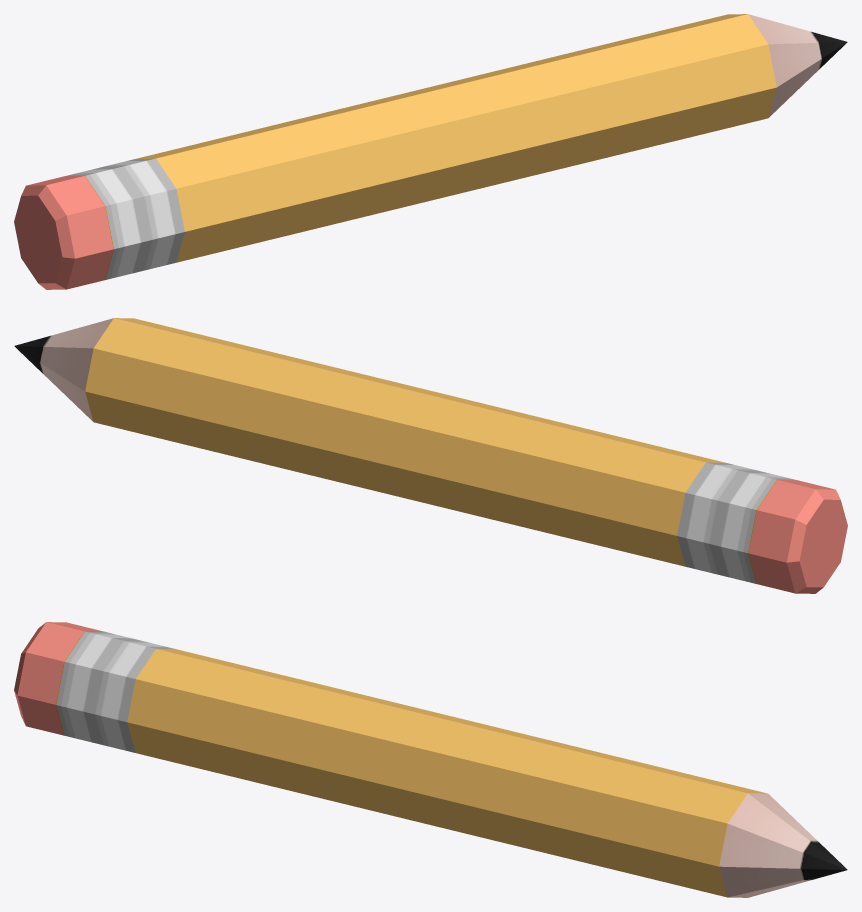
Rendered from pencil.glb.
The picture shows the model from 3 angles, top to bottom: view 1: azimuth 30°, elevation 25°; view 2: azimuth 150°, elevation 25°; view 3: azimuth 330°, elevation 25°; orthographic projection.
Parts seen in each view (by area): view 1: Cone; view 2: Cone; view 3: Cone.
Boxes of the visible parts, x1,y1,x2,y2 form: Cone: [14, 14, 847, 289]; Cone: [14, 318, 847, 593]; Cone: [14, 622, 847, 897].
Bounding box in the file's own units: 16.19 × 2 × 2.
Materials: 1 (1 with a texture image).
